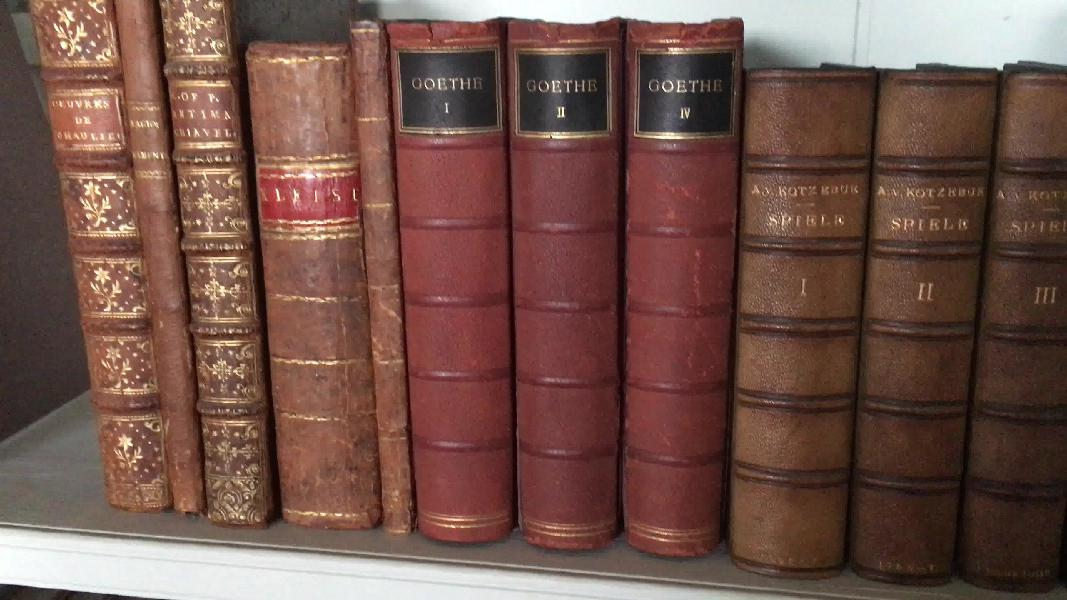Aa6-10: (351, 16, 417, 534)
Aa6-11_13: (384, 12, 743, 563)
Aa6-14_17: (730, 59, 1067, 583)
Aa6-6: (26, 6, 171, 516)
Aa6-7: (114, 6, 215, 509)
Aa6-8: (159, 1, 280, 537)
Aa6-9: (234, 22, 384, 537)
